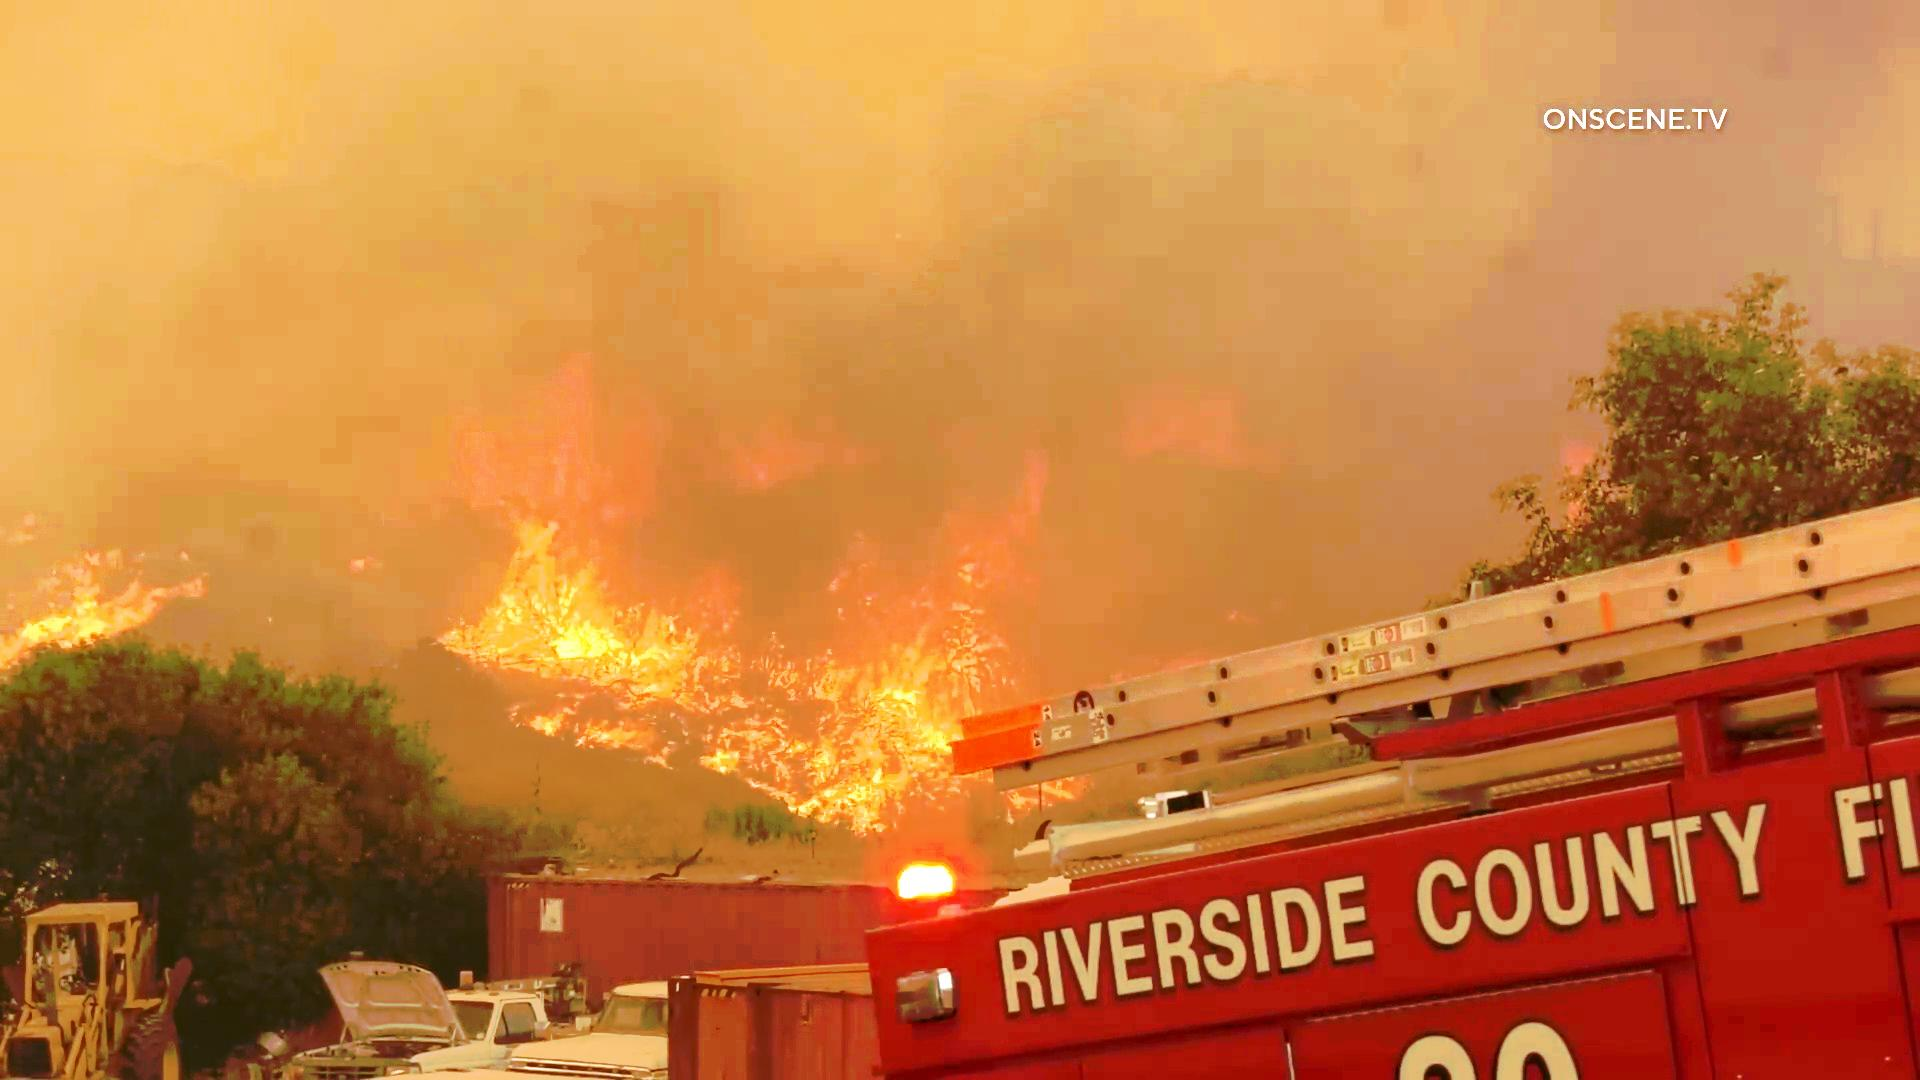fire: (493, 373, 1031, 812), (36, 535, 228, 674)
